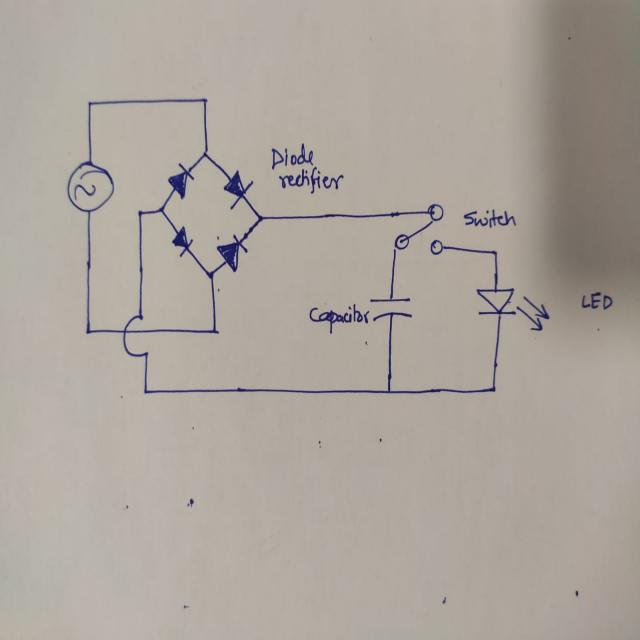capacitor: (370, 293, 410, 322)
crossover: (122, 312, 150, 359)
diode: (476, 286, 549, 330), (215, 233, 248, 272), (223, 169, 252, 209), (166, 163, 193, 198), (171, 225, 192, 256)
junction: (207, 322, 220, 336), (134, 207, 146, 220), (199, 95, 211, 108), (82, 324, 93, 338), (383, 384, 394, 396), (142, 385, 152, 398), (489, 382, 498, 396), (205, 269, 215, 280), (490, 248, 500, 258), (86, 99, 95, 110), (256, 214, 264, 224), (201, 149, 209, 159), (158, 204, 165, 214)
source: (64, 159, 116, 215)
switch: (390, 201, 446, 256)
text: (270, 141, 344, 194), (308, 302, 371, 335), (462, 206, 518, 229), (578, 290, 613, 309)
